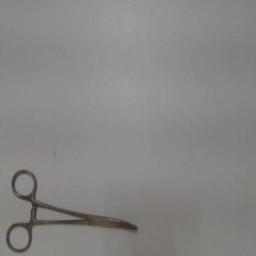Crile Artery Forceps: (4, 164, 144, 254)
